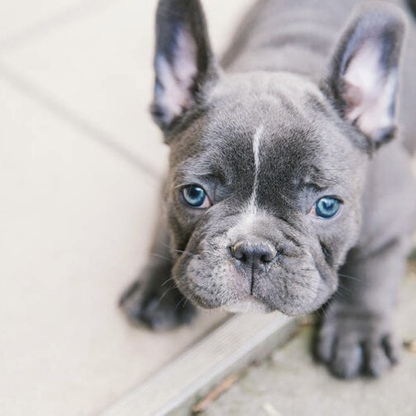bulldog: (122, 2, 403, 369)
